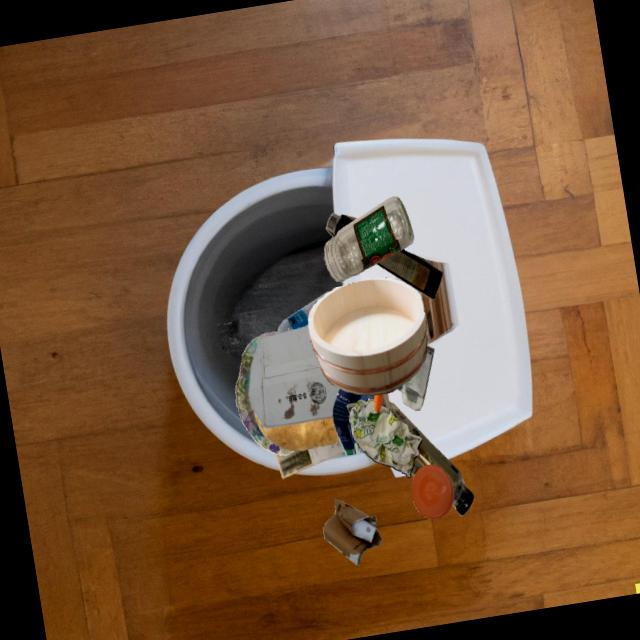biowaste: (254, 411, 340, 451), (374, 394, 383, 413)
cardboard: (249, 325, 339, 428), (236, 332, 295, 456), (322, 499, 383, 565), (377, 249, 443, 300)
combustible waste: (308, 278, 428, 396)
glass: (389, 402, 474, 516), (324, 196, 414, 282)
paper: (349, 398, 422, 478), (332, 388, 374, 456), (275, 440, 345, 479), (397, 345, 434, 411)
plastic: (277, 291, 331, 334), (412, 465, 454, 519)
